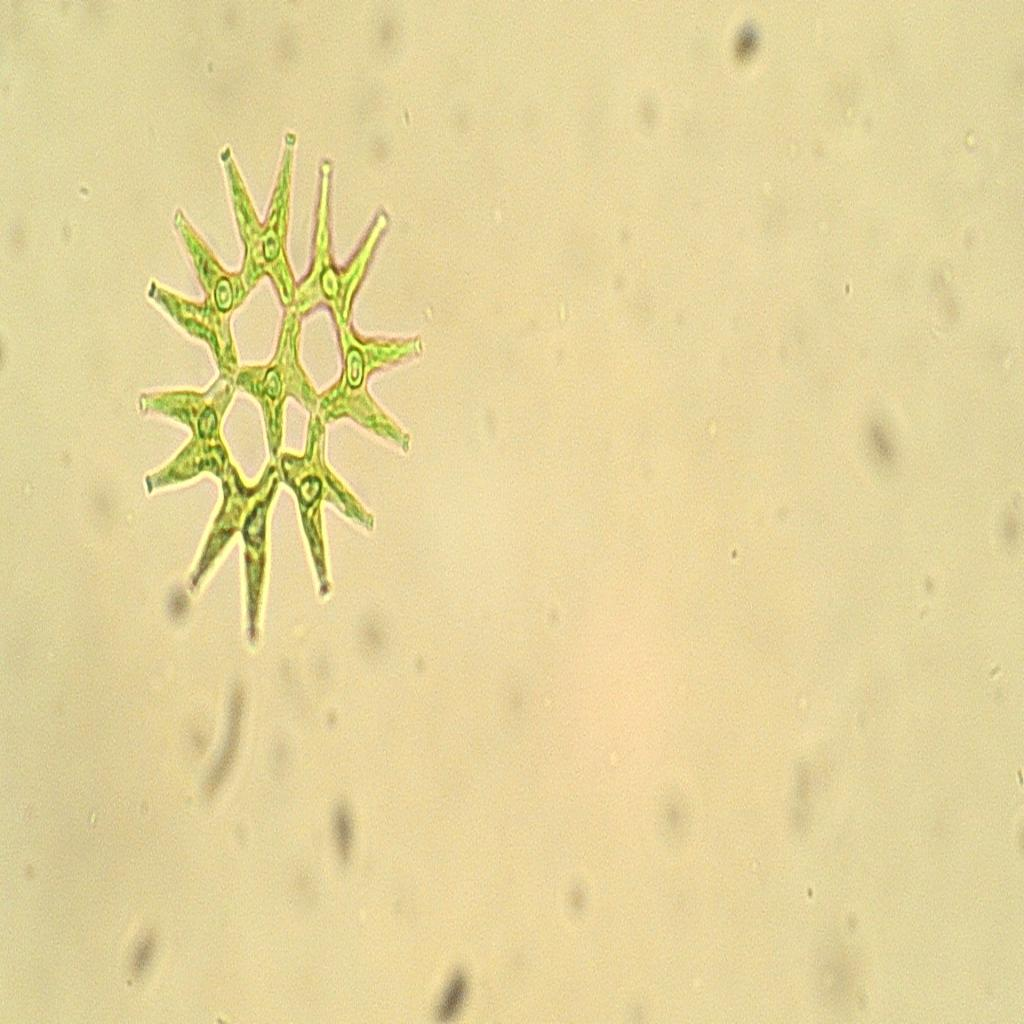Pediastrum_75T: (122, 121, 430, 655)
